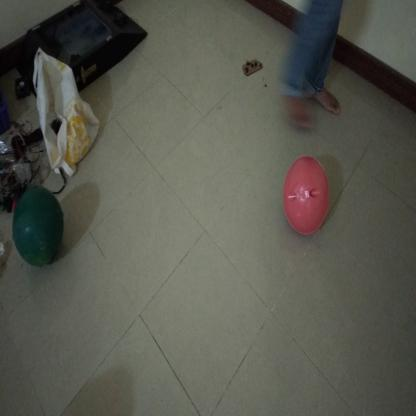green_buoy: (11, 183, 66, 269)
red_buoy: (281, 152, 331, 242)
